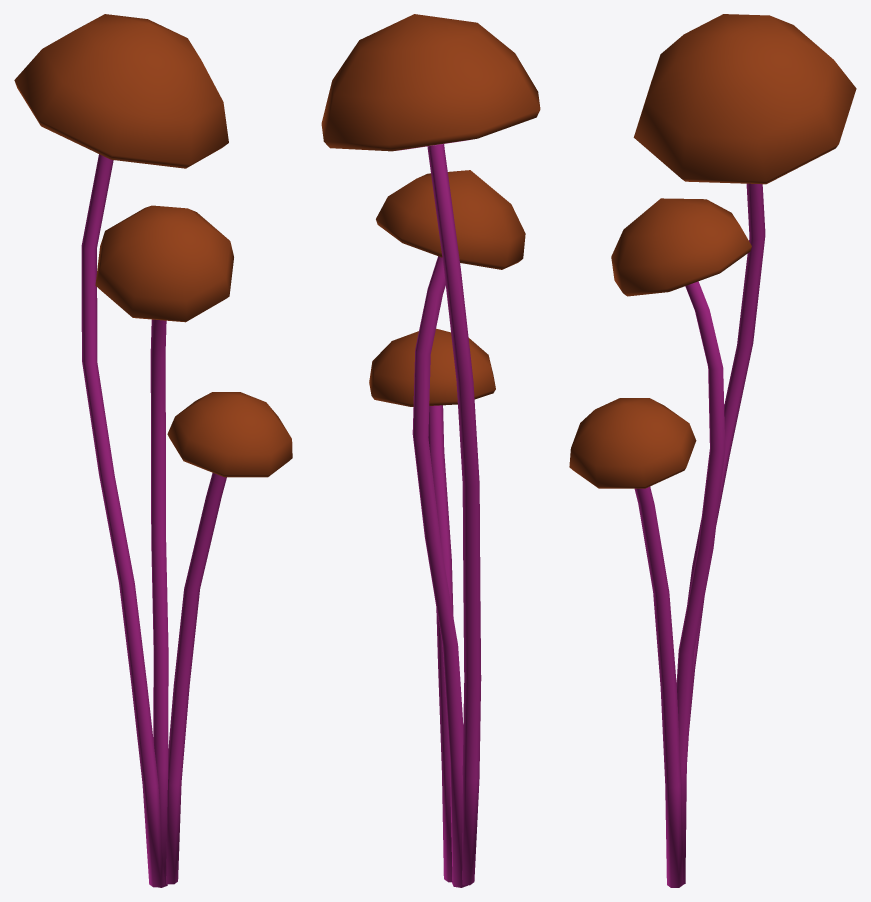
Rendered from MushroomTree_Parts.fbx.
The picture shows the model from 3 angles, left to right: view 1: azimuth 30°, elevation 25°; view 2: azimuth 150°, elevation 25°; view 3: azimuth 270°, elevation 25°; orthographic projection. The views are drawn at different scales.
Visible parts, largest first — view 1: scifi-tree-mushroom-big.parts.001, scifi-tree-mushroom-big.parts.002, scifi-tree-mushroom-big.parts, scifi-tree-mushroom-big.parts.003, scifi-tree-mushroom-big.parts.008, scifi-tree-mushroom-big.parts.005, scifi-tree-mushroom-big.parts.004, scifi-tree-mushroom-big.parts.006, scifi-tree-mushroom-big.parts.007; view 2: scifi-tree-mushroom-big.parts.001, scifi-tree-mushroom-big.parts.002, scifi-tree-mushroom-big.parts, scifi-tree-mushroom-big.parts.003, scifi-tree-mushroom-big.parts.008, scifi-tree-mushroom-big.parts.006, scifi-tree-mushroom-big.parts.004, scifi-tree-mushroom-big.parts.005, scifi-tree-mushroom-big.parts.007; view 3: scifi-tree-mushroom-big.parts.001, scifi-tree-mushroom-big.parts.002, scifi-tree-mushroom-big.parts.003, scifi-tree-mushroom-big.parts.006, scifi-tree-mushroom-big.parts.008, scifi-tree-mushroom-big.parts.005, scifi-tree-mushroom-big.parts.007, scifi-tree-mushroom-big.parts.004, scifi-tree-mushroom-big.parts.
Part boxes in pixels (box(x1,y1,x2,y2)): scifi-tree-mushroom-big.parts.001: box(14, 14, 228, 168); scifi-tree-mushroom-big.parts.002: box(95, 205, 233, 322); scifi-tree-mushroom-big.parts: box(82, 361, 164, 887); scifi-tree-mushroom-big.parts.003: box(167, 392, 292, 477); scifi-tree-mushroom-big.parts.008: box(151, 538, 168, 887); scifi-tree-mushroom-big.parts.005: box(174, 473, 226, 687); scifi-tree-mushroom-big.parts.004: box(81, 154, 113, 364); scifi-tree-mushroom-big.parts.006: box(150, 319, 166, 541); scifi-tree-mushroom-big.parts.007: box(166, 685, 189, 884); scifi-tree-mushroom-big.parts.001: box(321, 14, 540, 151); scifi-tree-mushroom-big.parts.002: box(376, 170, 525, 269); scifi-tree-mushroom-big.parts: box(456, 381, 481, 885); scifi-tree-mushroom-big.parts.003: box(369, 328, 495, 406); scifi-tree-mushroom-big.parts.008: box(425, 538, 467, 887); scifi-tree-mushroom-big.parts.006: box(412, 256, 445, 541); scifi-tree-mushroom-big.parts.004: box(427, 144, 473, 383); scifi-tree-mushroom-big.parts.005: box(428, 405, 453, 668); scifi-tree-mushroom-big.parts.007: box(438, 666, 452, 882); scifi-tree-mushroom-big.parts.001: box(633, 14, 856, 184); scifi-tree-mushroom-big.parts.002: box(611, 198, 751, 296); scifi-tree-mushroom-big.parts.003: box(569, 398, 696, 488); scifi-tree-mushroom-big.parts.006: box(685, 281, 725, 550); scifi-tree-mushroom-big.parts.008: box(676, 547, 713, 884); scifi-tree-mushroom-big.parts.005: box(634, 486, 676, 690); scifi-tree-mushroom-big.parts.007: box(660, 688, 683, 887); scifi-tree-mushroom-big.parts.004: box(737, 183, 765, 347); scifi-tree-mushroom-big.parts: box(687, 343, 753, 730).
Bounding box in the file's own units: 195 × 780 × 237.
Materials: 1 (1 with a texture image).
